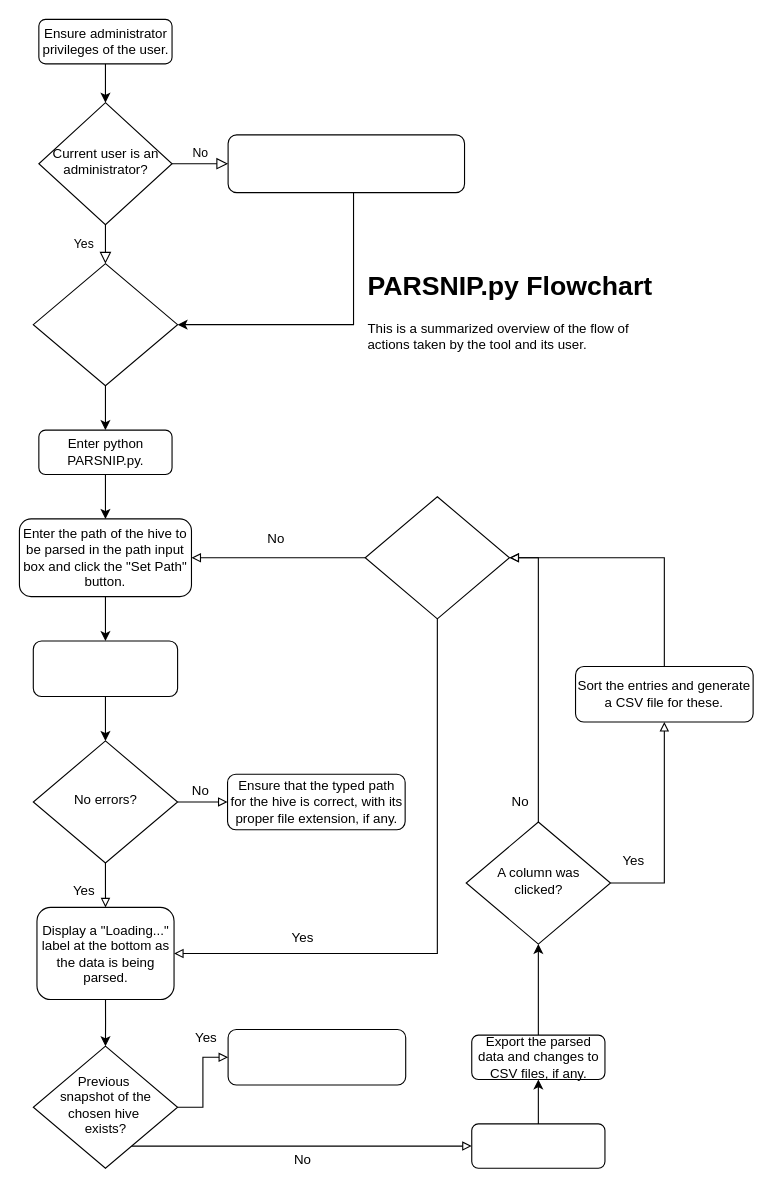
Image size: 773x1197. Some labels were removed from this diagram. Here are the shapes that lost their labels. From the top down, the centre of each, then its label:
point (346, 163): Extract the hive manually.
point (105, 324): Run Command Prompt as administrator.
point (436, 557): Automatic Refresh is enabled, and time interval has passed?
point (105, 668): Click either the "Refresh" or "Enable Auto Refresh" button.
point (316, 1056): Check for differences to detect changes within the hive.
point (538, 1145): Display parsed data and changes in the GUI, if any.
